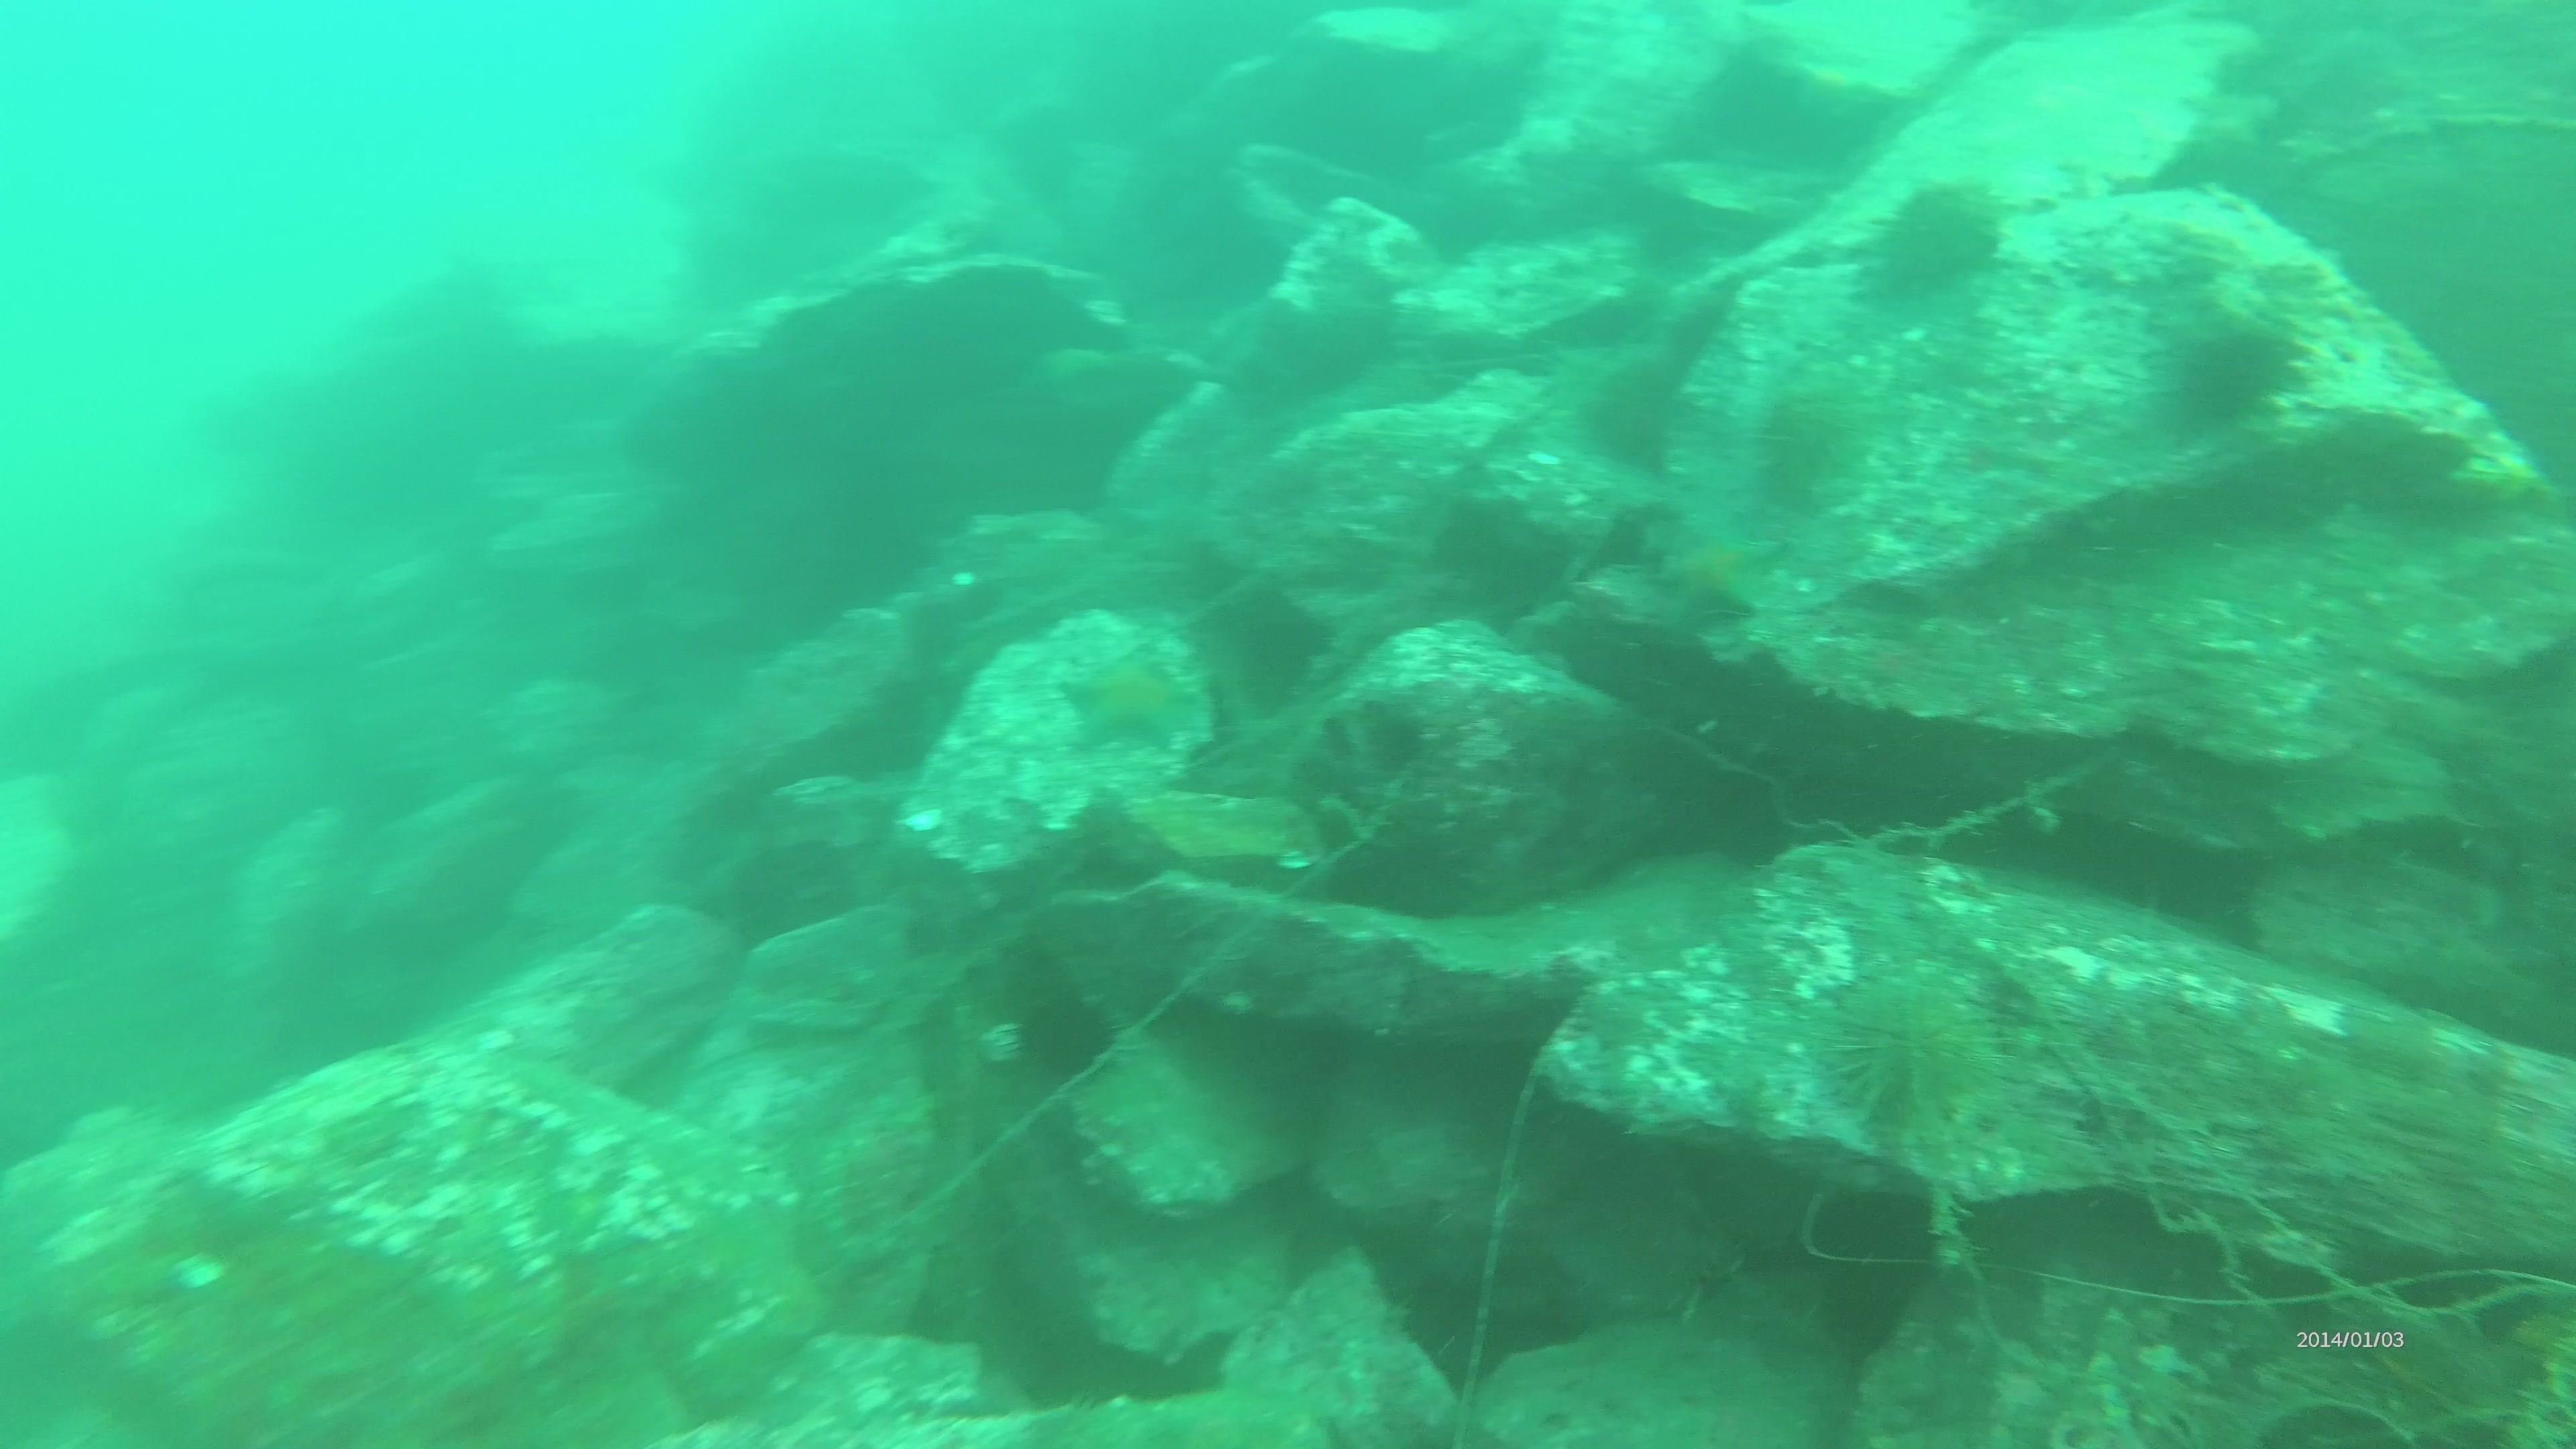echinus: (1813, 968, 2005, 1138), (1852, 175, 2012, 310), (2153, 311, 2307, 441), (1748, 380, 1867, 510), (1573, 359, 1690, 478), (1007, 980, 1123, 1092)
starfish: (1054, 642, 1212, 761), (1642, 510, 1787, 633)
